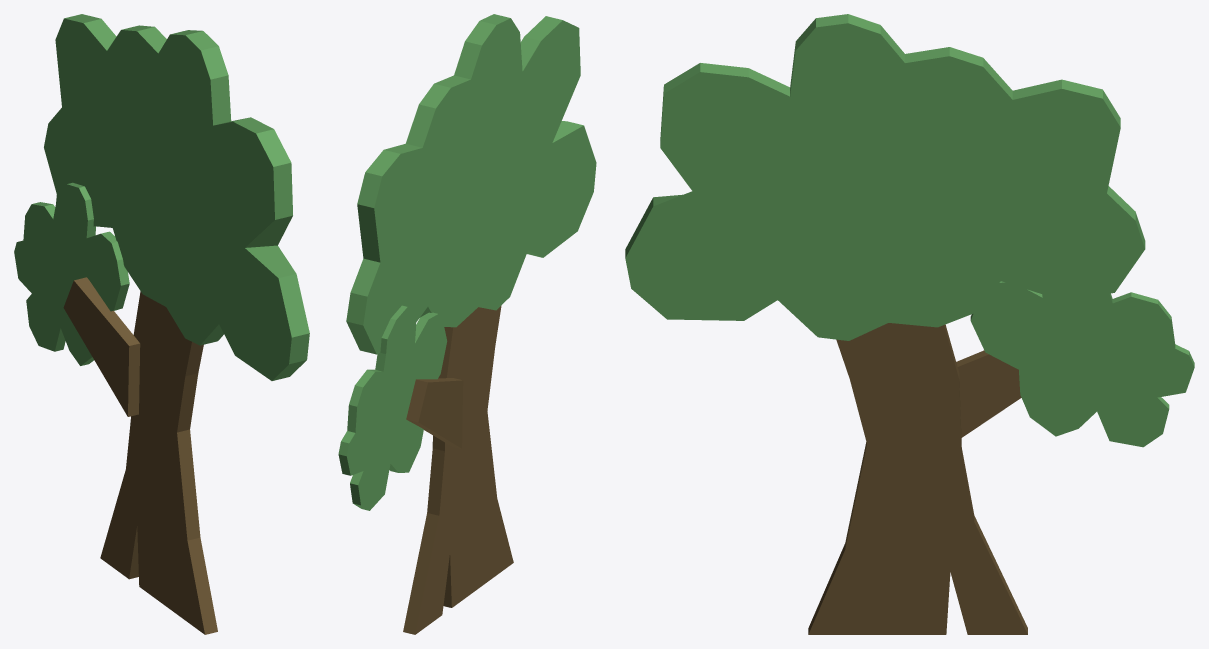
File: Tree.fbx
The picture shows the model from 3 angles, left to right: view 1: azimuth 30°, elevation 25°; view 2: azimuth 150°, elevation 25°; view 3: azimuth 270°, elevation 25°; orthographic projection. The views are drawn at different scales.
Visible parts, largest first — view 1: Bush, Base, Lil_bush, Branch; view 2: Bush, Base, Lil_bush, Branch; view 3: Bush, Base, Lil_bush, Branch.
Boxes of the visible parts, box(x1,y1,x2,y2) form: Bush: box(44, 14, 309, 380); Base: box(100, 291, 217, 634); Lil_bush: box(14, 182, 129, 365); Branch: box(63, 277, 140, 416); Bush: box(346, 14, 596, 354); Base: box(403, 305, 513, 634); Lil_bush: box(338, 305, 447, 510); Branch: box(406, 378, 463, 448); Bush: box(625, 14, 1145, 340); Base: box(808, 323, 1027, 634); Lil_bush: box(970, 281, 1194, 447); Branch: box(956, 350, 1021, 437).
Bounding box in the file's own units: 2.83 × 42.25 × 35.5.
